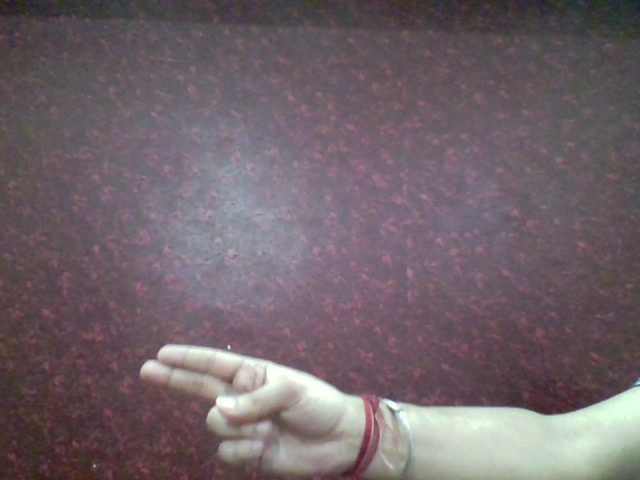h: (123, 330, 350, 474)
